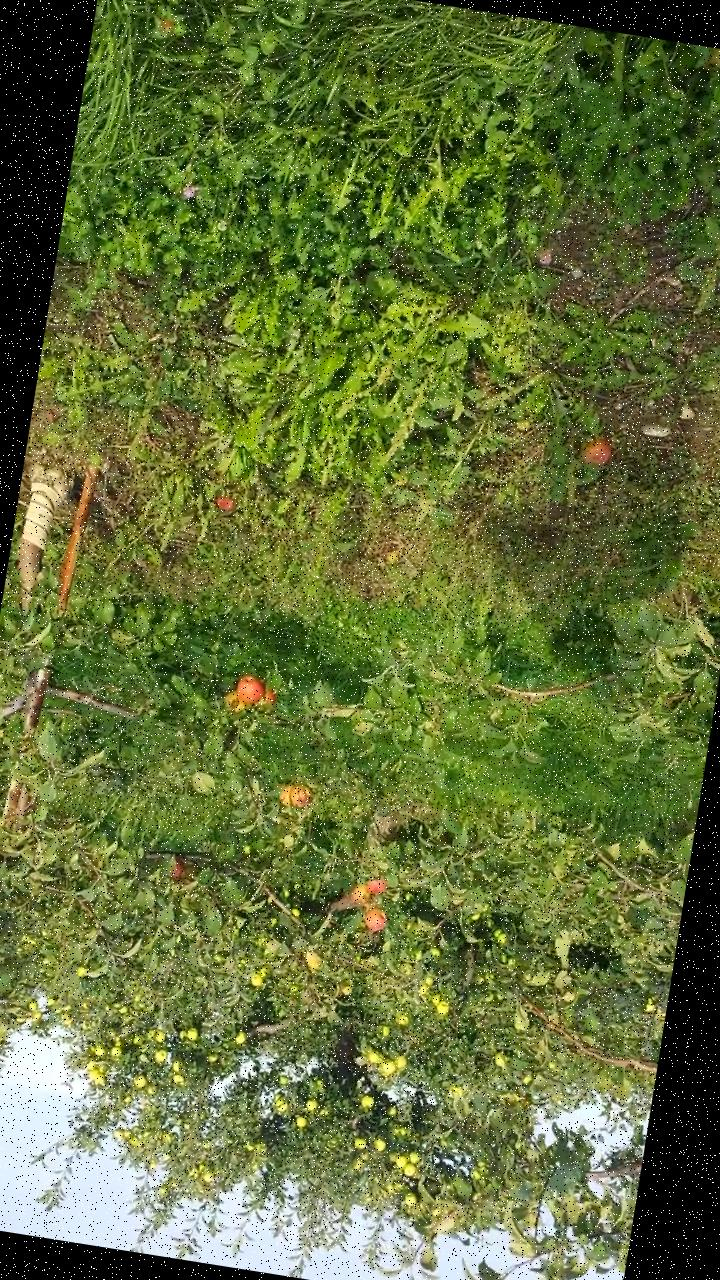Apple: (232, 675, 264, 706), (286, 784, 312, 812), (362, 908, 387, 934), (224, 690, 246, 714), (274, 783, 294, 809), (350, 883, 369, 905), (365, 877, 386, 896), (168, 859, 185, 882), (258, 690, 274, 708)
